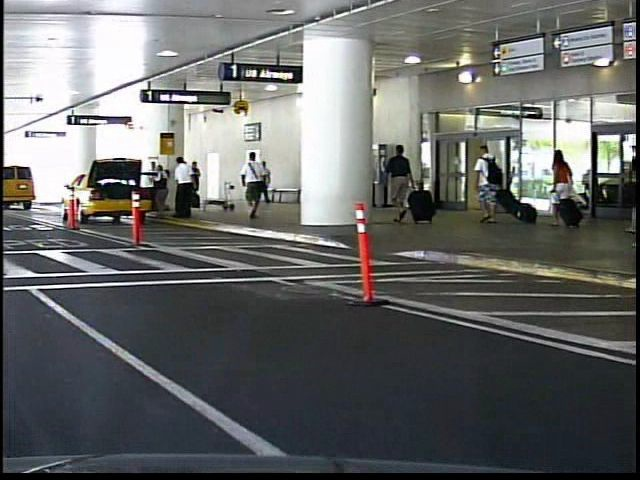person: (470, 139, 507, 224), (542, 144, 577, 229), (381, 142, 413, 227), (235, 148, 266, 221), (620, 137, 640, 249), (245, 161, 265, 209)
